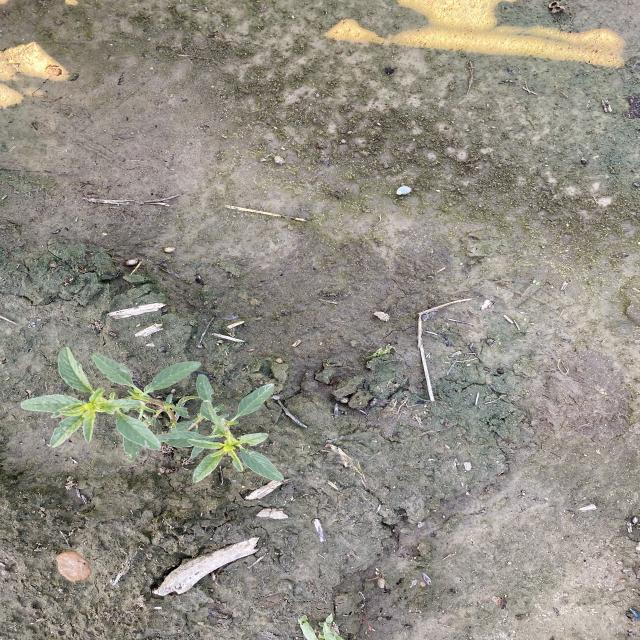Waterhemp: (19, 344, 286, 484)
